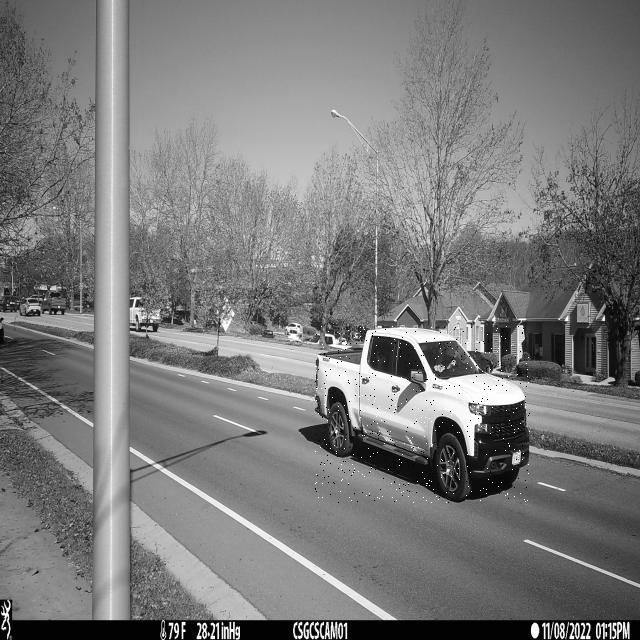Pickup: (315, 326, 530, 503)
